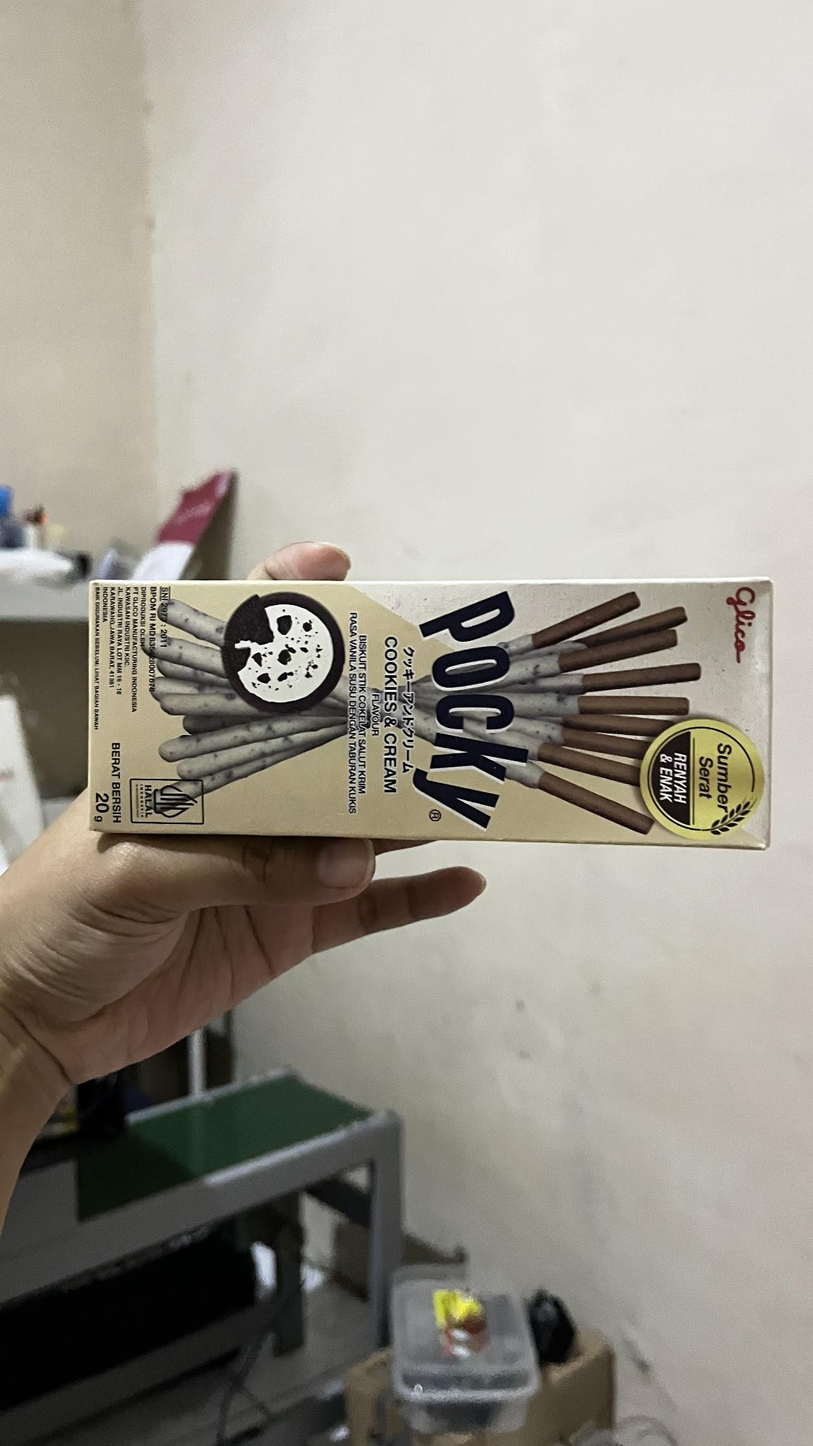Kertas: (90, 588, 767, 850)
